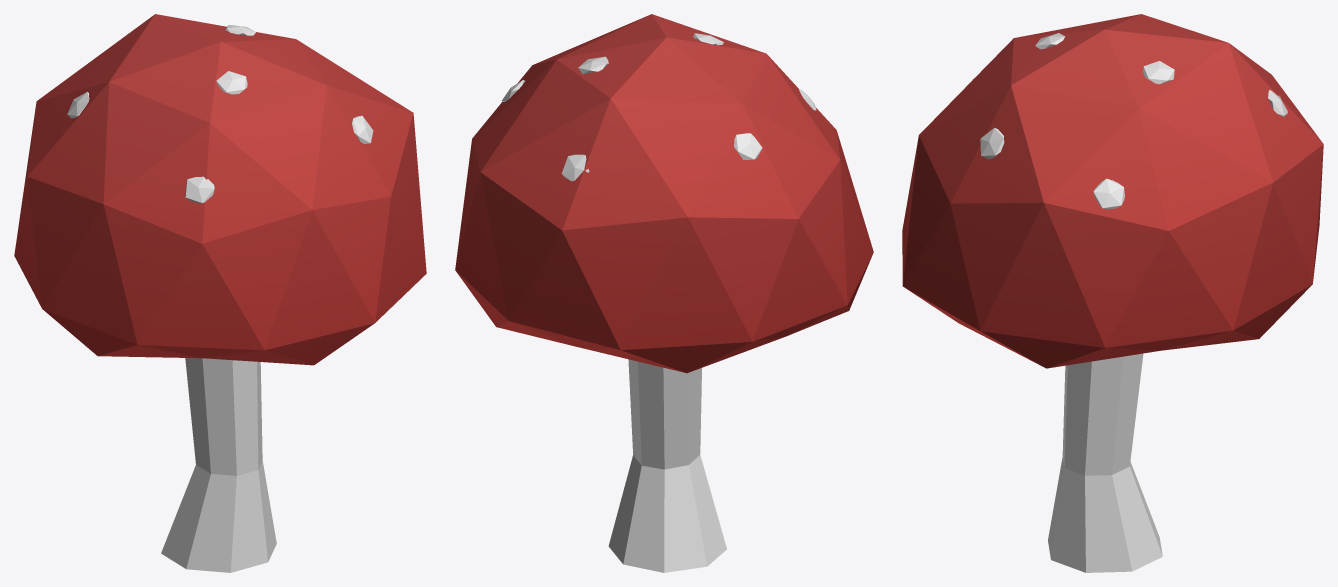
The model's file is Mushroom_09.fbx.
3 views of the same model, side by side, from view 1: azimuth 30°, elevation 25°; view 2: azimuth 150°, elevation 25°; view 3: azimuth 270°, elevation 25° (orthographic). The views are drawn at different scales.
Visible parts, largest first — view 1: Mushroom_09; view 2: Mushroom_09; view 3: Mushroom_09.
Part boxes in pixels (bbox=[...]): Mushroom_09: bbox=[14, 14, 426, 572]; Mushroom_09: bbox=[455, 14, 873, 572]; Mushroom_09: bbox=[902, 14, 1323, 572].
Size of the model in its own units: 0.4456 by 0.6021 by 0.4425.
